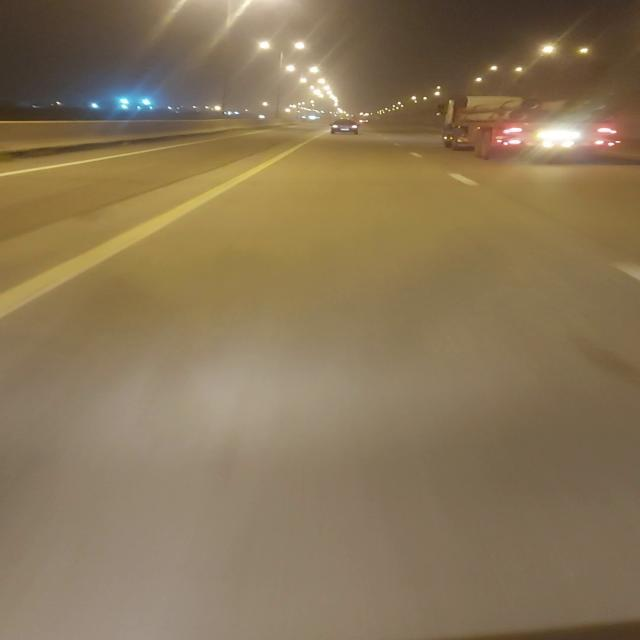Truck: (429, 87, 635, 163)
